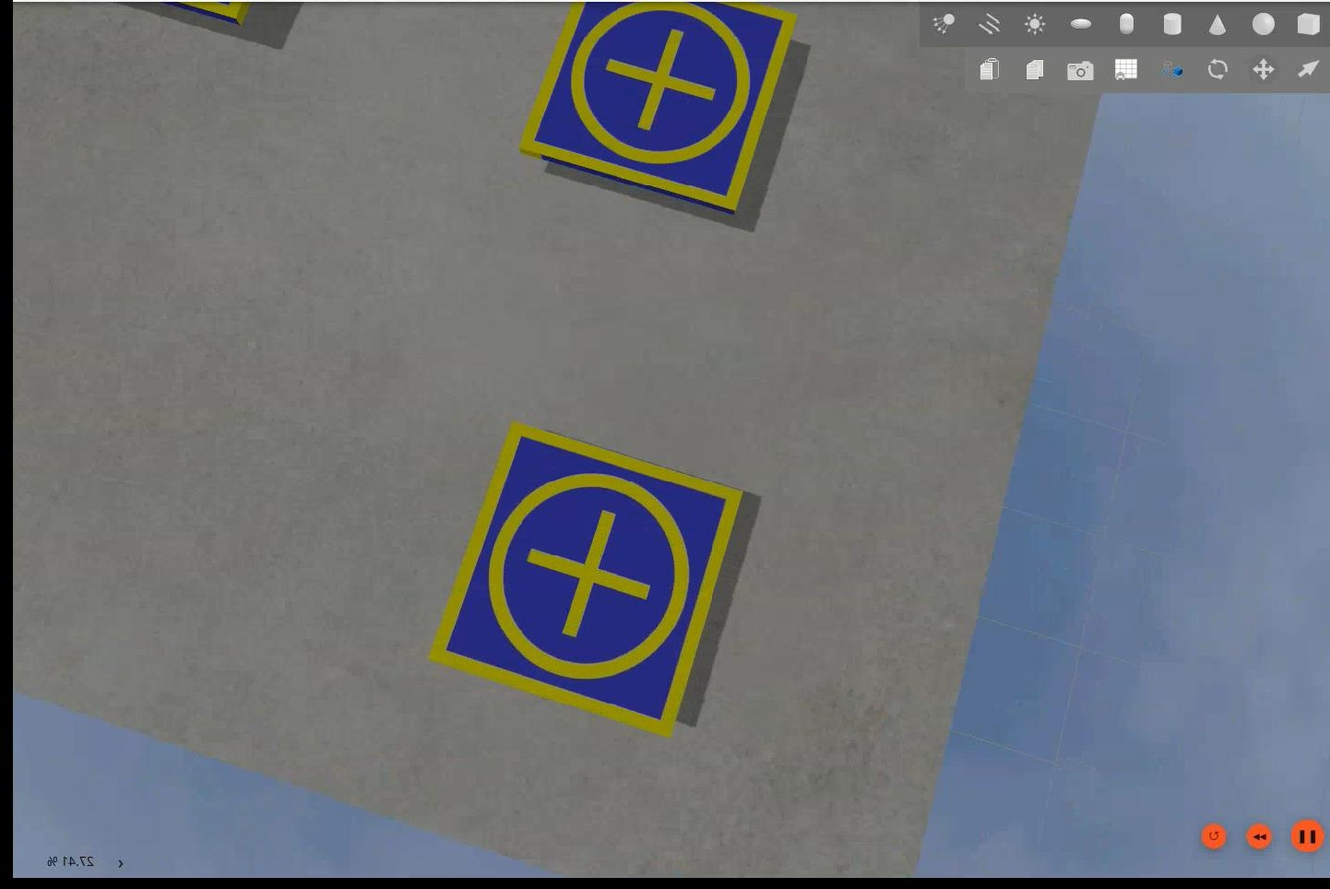small_base: (425, 424, 744, 738), (514, 1, 794, 218)
